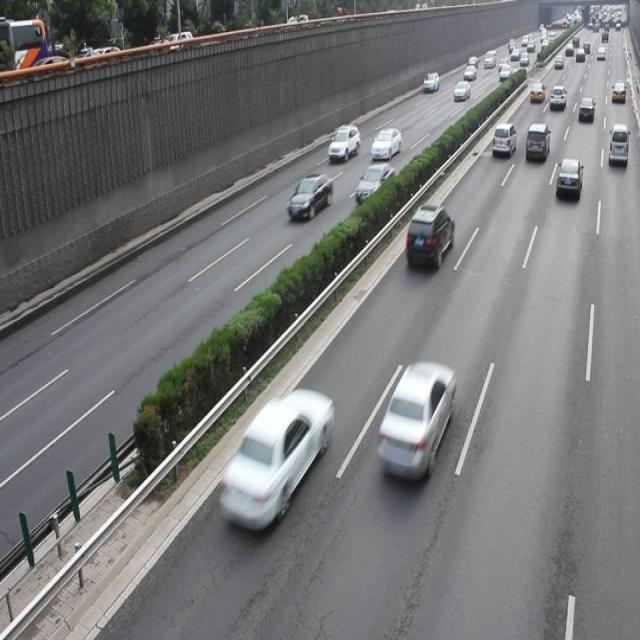car: (216, 388, 330, 530), (374, 362, 454, 484), (404, 204, 452, 268), (286, 171, 332, 220), (355, 161, 394, 204), (554, 157, 580, 200)
